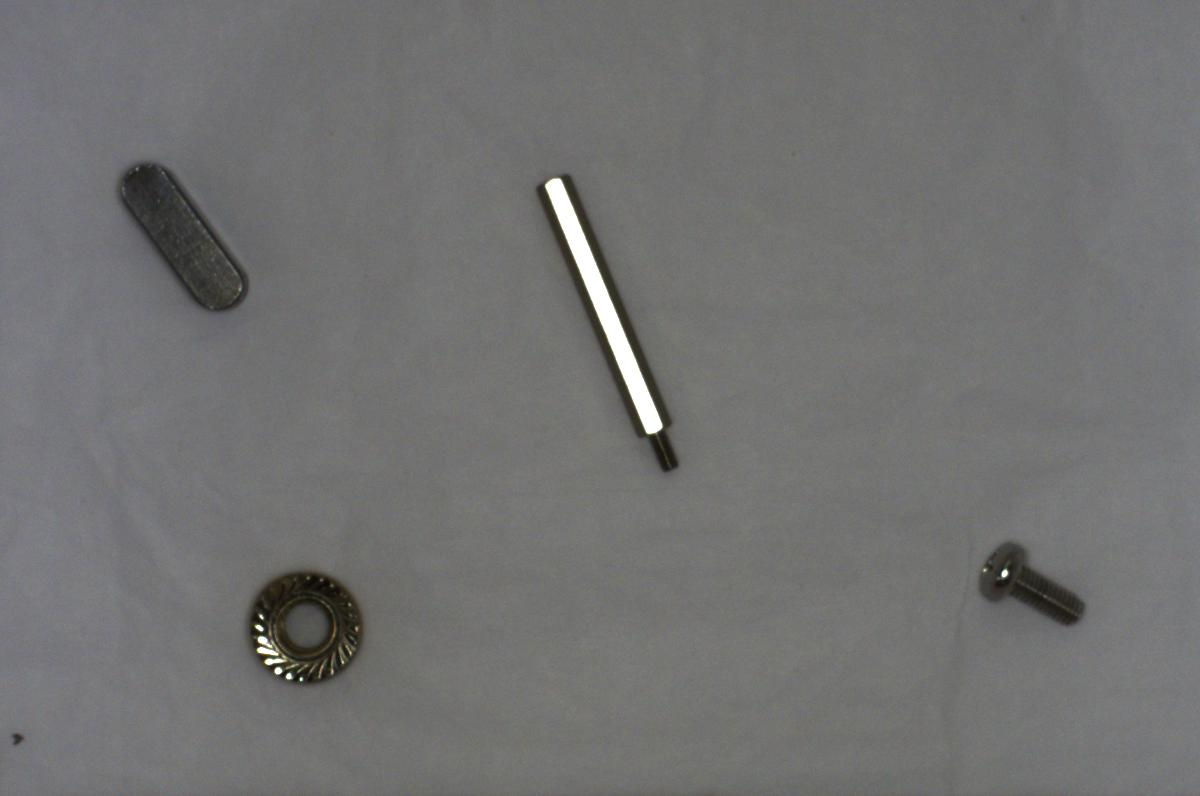Flange nut: (234, 559, 368, 688)
Hexagonal steel column: (522, 165, 699, 482)
Keybar: (104, 155, 257, 321)
Round head screw: (962, 527, 1093, 632)
